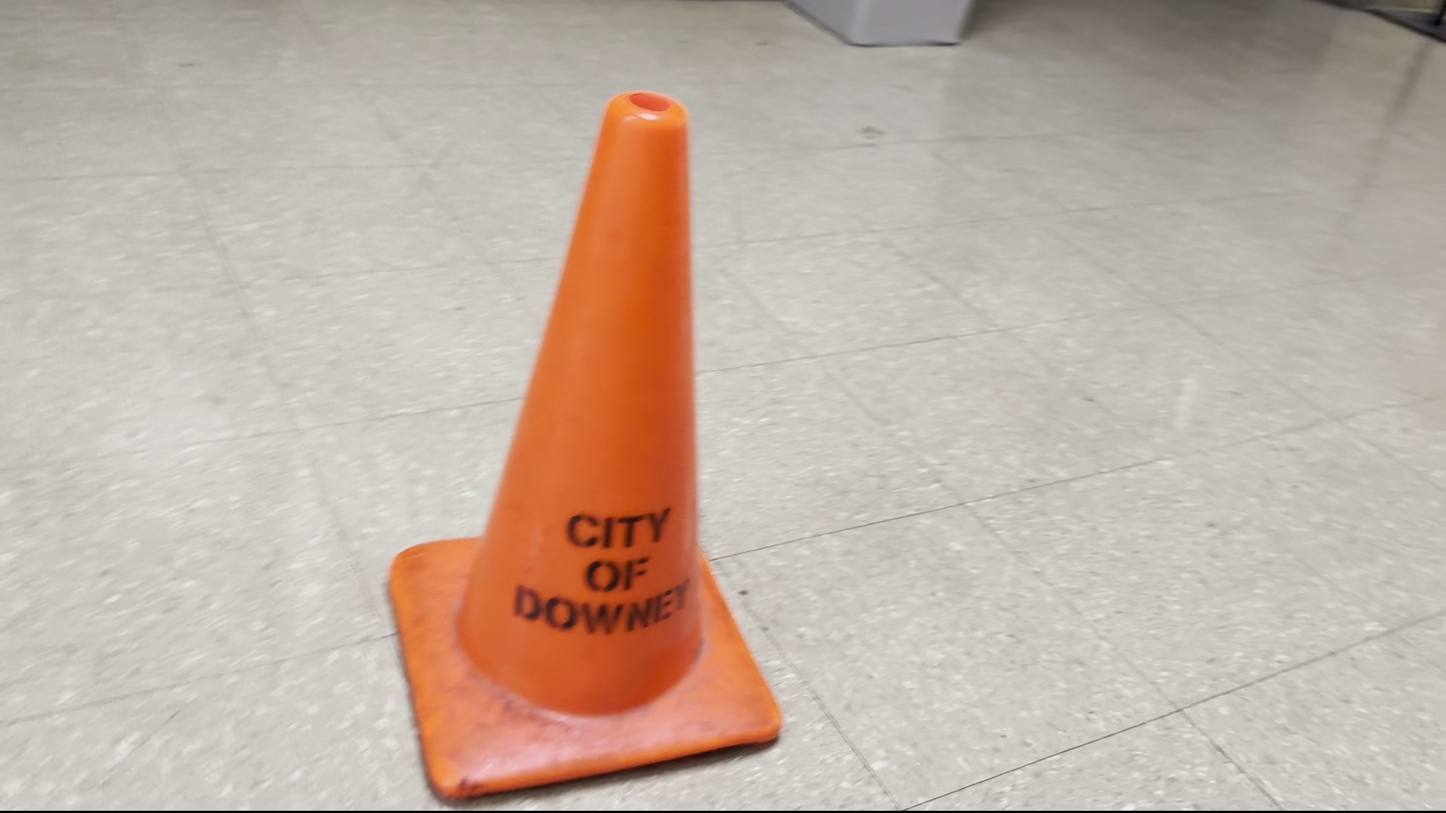traffic_cone: (387, 89, 784, 801)
